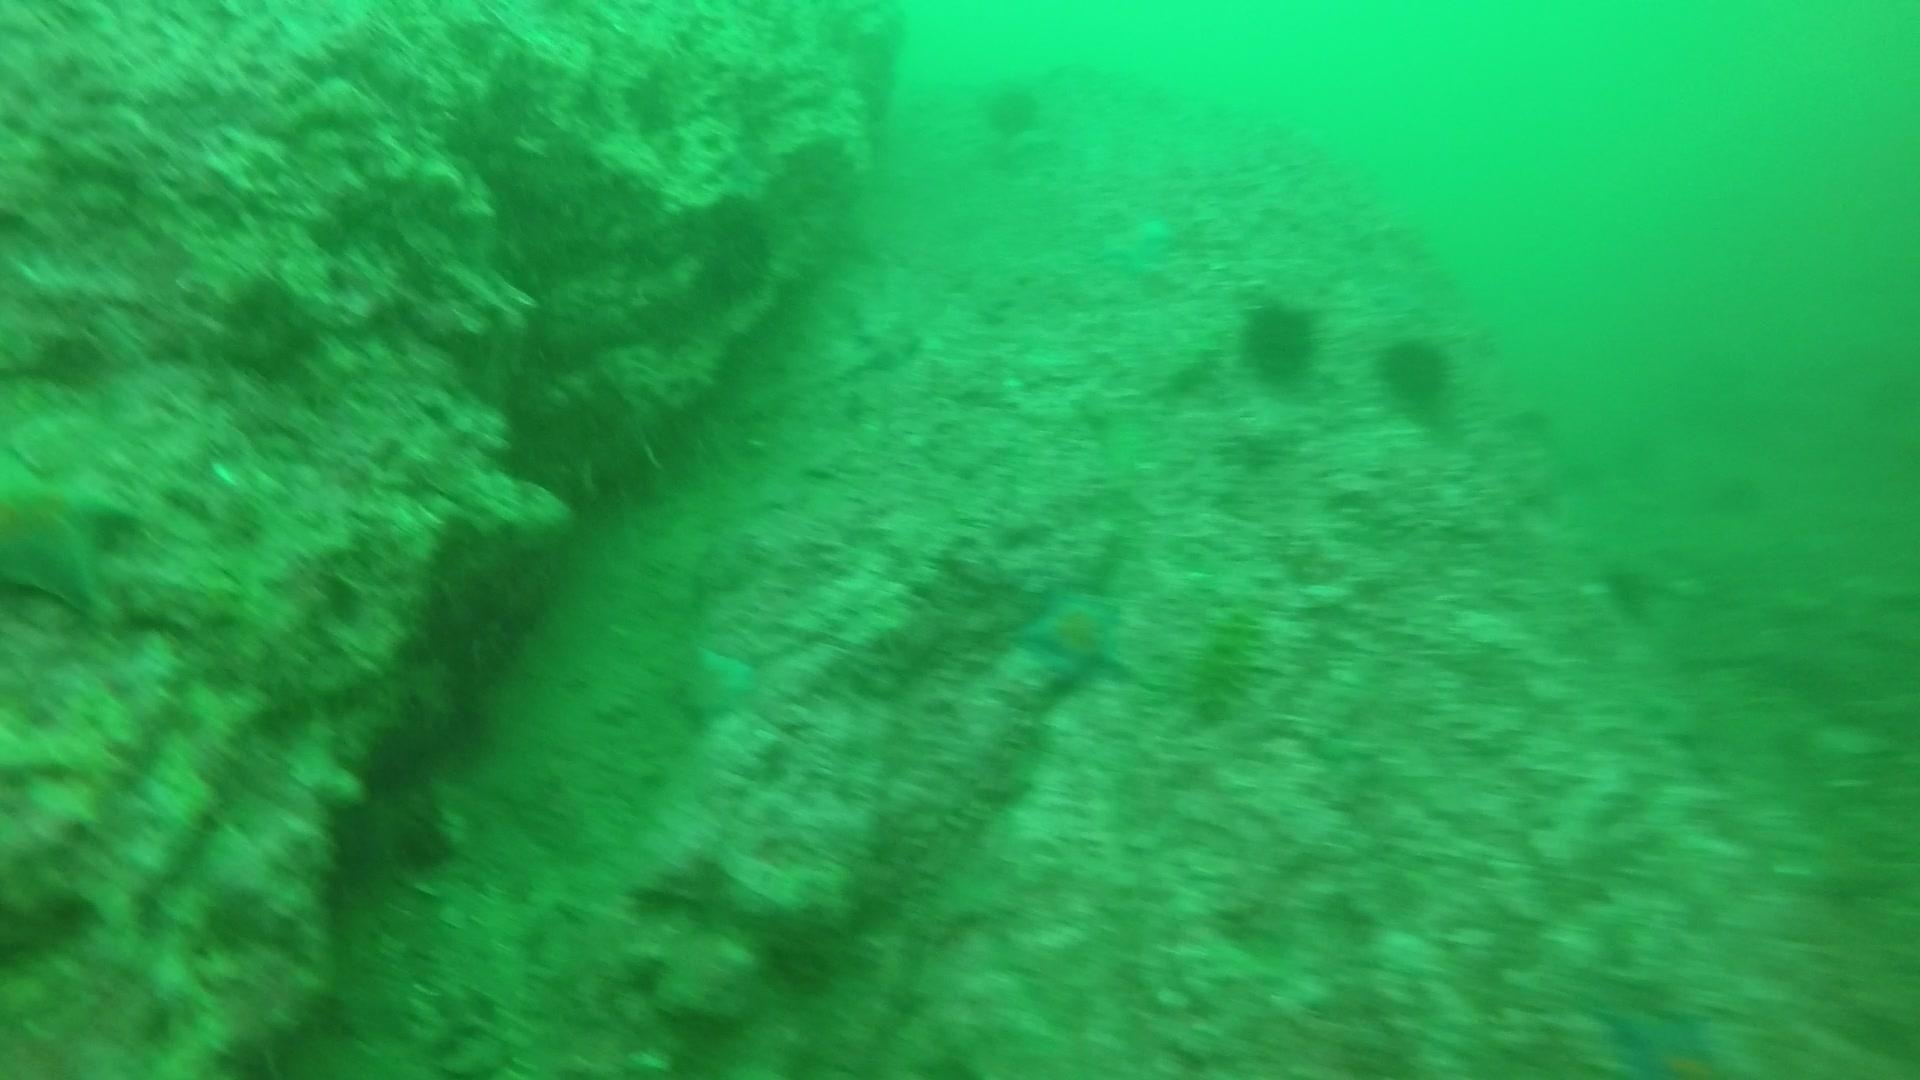echinus: (1232, 291, 1327, 392), (1370, 328, 1461, 418), (976, 74, 1048, 142)
holothurian: (1178, 600, 1275, 727)
starfish: (0, 444, 140, 622), (1009, 575, 1139, 694), (1597, 997, 1768, 1075), (678, 633, 771, 732), (1091, 203, 1184, 278)
